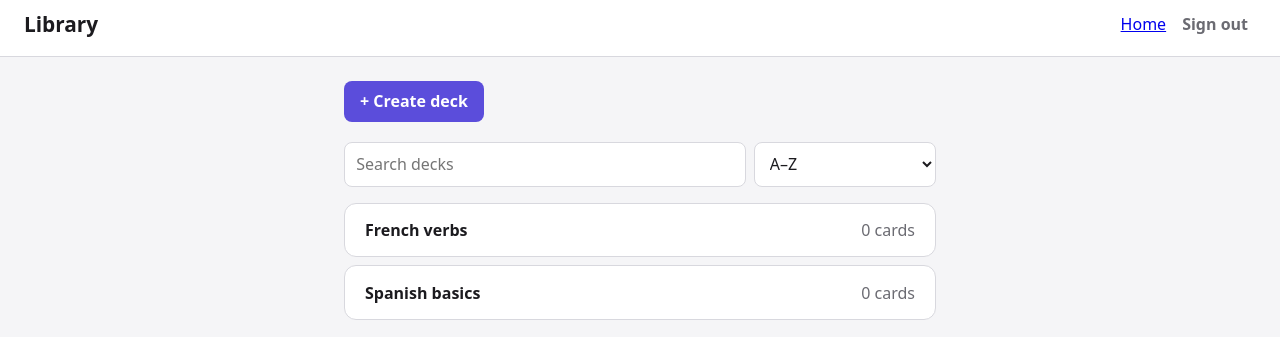
Test case: LibraryPage › filters decks by title as you type, with a no-match message
The width and height of the screenshot is (1280, 337).
Check: the text "Spanish basics" is shown, box [365,282,480,304]
Type "french" into the search field labelled "Search decks" at (545, 164), box [344,142,746,187]
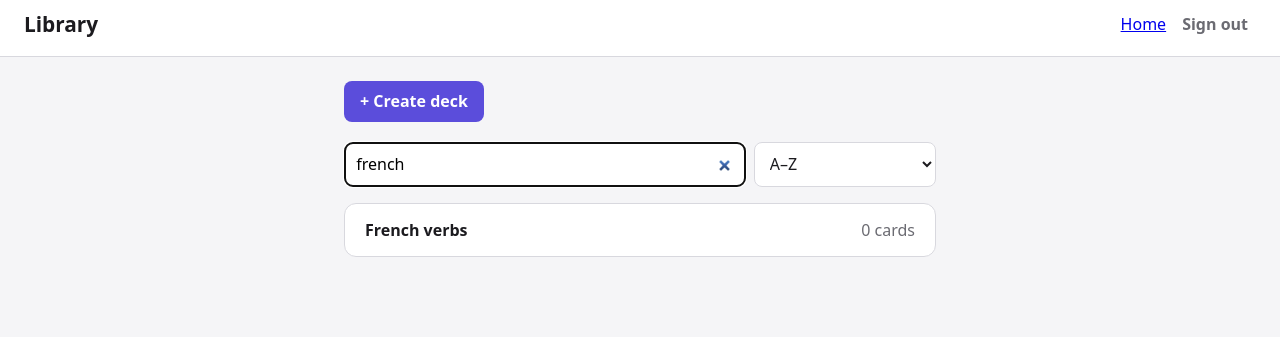
Check: the text "French verbs" is shown, box [365,219,468,241]
Check: the button "Spanish basics" is gone
Replace the text in the search field named "Search decks" with "zzz" at (545, 164), box [344,142,746,187]
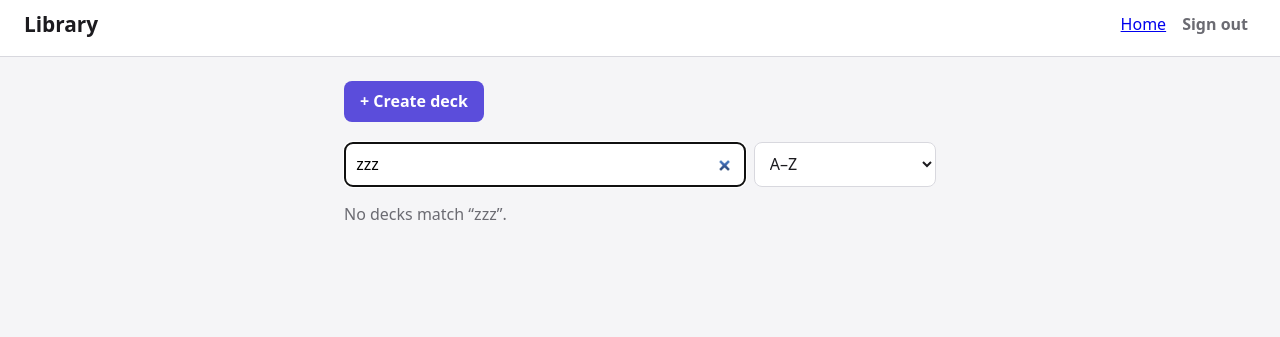
Check: the text "No decks match “zzz”." is shown, box [344,203,507,225]
